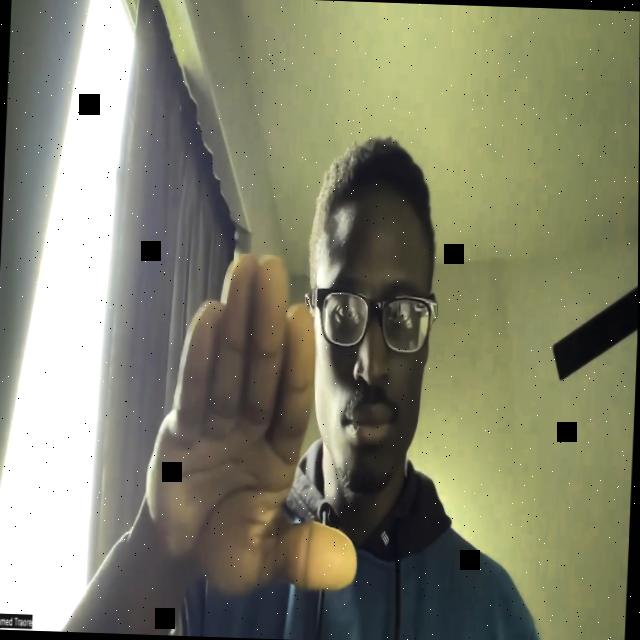Paper: (139, 248, 373, 603)
